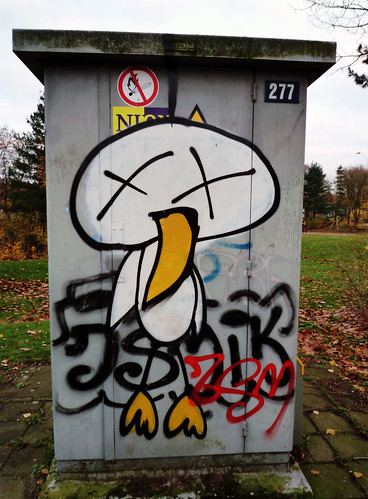graffiti: (39, 90, 299, 458)
